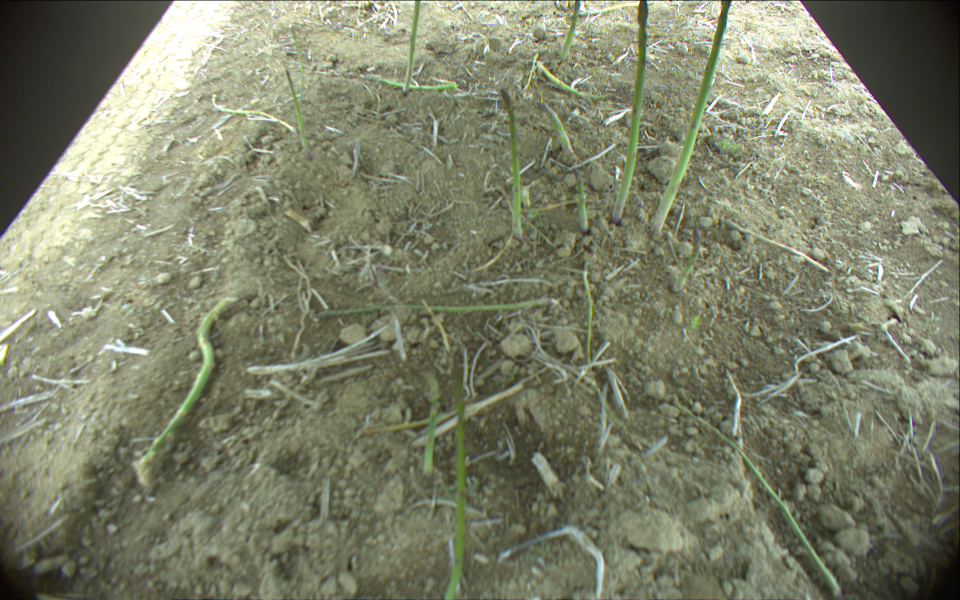aspa: (679, 403, 850, 600), (650, 1, 735, 232), (141, 295, 239, 484), (441, 361, 477, 599), (612, 1, 649, 223), (312, 296, 558, 316), (500, 89, 526, 239), (211, 92, 297, 133), (536, 61, 617, 101), (534, 96, 578, 160), (283, 74, 313, 160), (398, 1, 425, 94), (417, 369, 439, 476), (672, 224, 704, 294), (351, 76, 458, 93), (558, 1, 581, 61), (578, 1, 650, 20), (572, 169, 592, 230)
